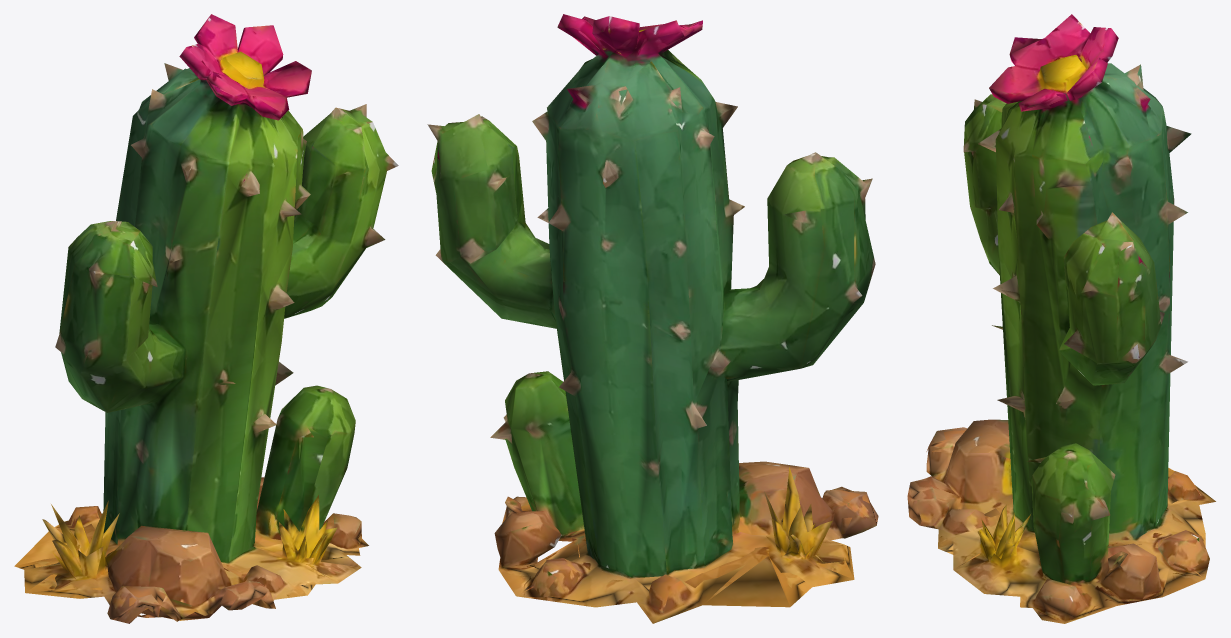
File: dec_cactus.glb
3 renders of one model, left to right at view 1: azimuth 30°, elevation 25°; view 2: azimuth 150°, elevation 25°; view 3: azimuth 270°, elevation 25°, orthographic. The views are drawn at different scales.
Visible parts, largest first — view 1: BakeLow; view 2: BakeLow; view 3: BakeLow.
Boxes of the visible parts, x1,y1,x2,y2 form: BakeLow: [14, 14, 398, 623]; BakeLow: [427, 14, 878, 623]; BakeLow: [907, 14, 1215, 623].
Size of the model in its own units: 0.6086 by 0.8164 by 0.428.
1 material, 1 textured.
